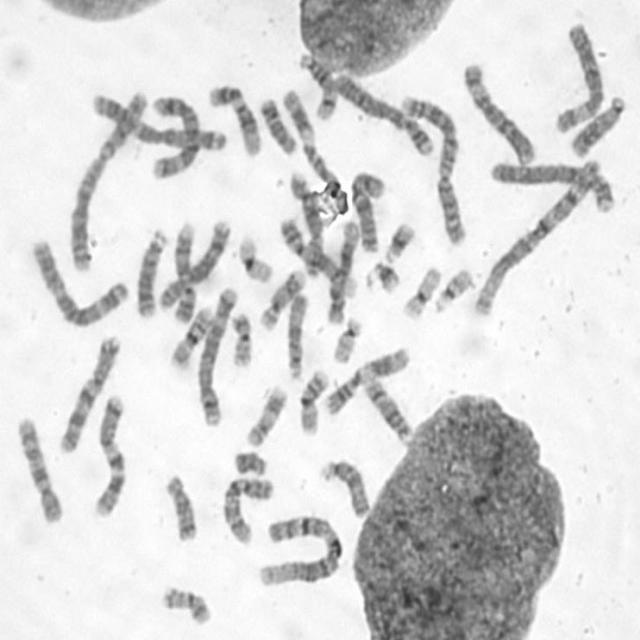A1: (470, 155, 611, 319), (255, 510, 344, 588)
A2: (64, 85, 150, 273), (397, 89, 467, 248)
A3: (29, 234, 130, 328), (87, 90, 229, 153)
B4: (324, 69, 438, 158), (486, 155, 615, 216)
B5: (194, 283, 239, 429), (148, 90, 202, 180)
C10: (13, 412, 65, 524), (218, 471, 275, 548)
C11: (321, 343, 411, 417), (280, 87, 339, 183)
C12: (322, 217, 362, 327), (206, 81, 262, 158)
C6: (460, 57, 537, 164), (551, 19, 605, 136)
C7: (55, 331, 123, 454), (89, 391, 128, 520)
C8: (155, 216, 233, 311), (286, 167, 325, 279)
C9: (274, 221, 356, 301), (170, 218, 197, 325)
D13: (568, 92, 626, 158), (133, 225, 168, 318)
D14: (362, 376, 412, 444), (297, 50, 338, 122)
D15: (318, 455, 371, 520), (284, 290, 310, 382)
E16: (166, 302, 214, 371), (295, 367, 331, 437)
E17: (256, 266, 307, 331), (242, 382, 289, 448)
E18: (162, 469, 200, 545), (257, 93, 299, 157)
F19: (399, 264, 442, 322), (235, 232, 274, 286)
F20: (158, 582, 213, 627), (228, 308, 254, 369)
G21: (382, 218, 418, 264), (362, 257, 402, 296)
G22: (431, 264, 474, 314), (329, 312, 364, 365)
X: (348, 167, 387, 256)
Y: (231, 446, 269, 476)
